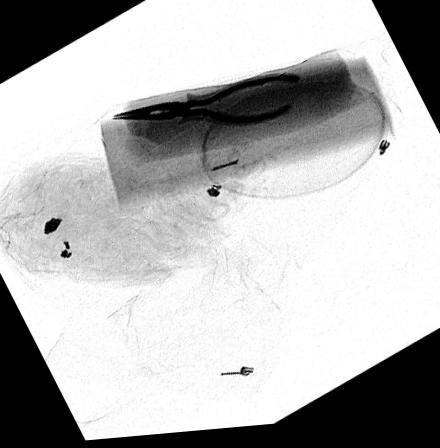Pliers: (105, 76, 300, 130)
